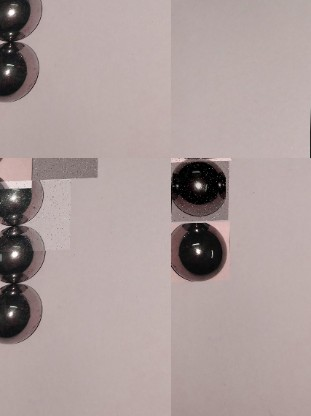ironball: (171, 222, 231, 283), (171, 161, 230, 222), (0, 41, 47, 101), (0, 279, 39, 345), (0, 225, 46, 280), (0, 181, 46, 225), (0, 0, 48, 41)
